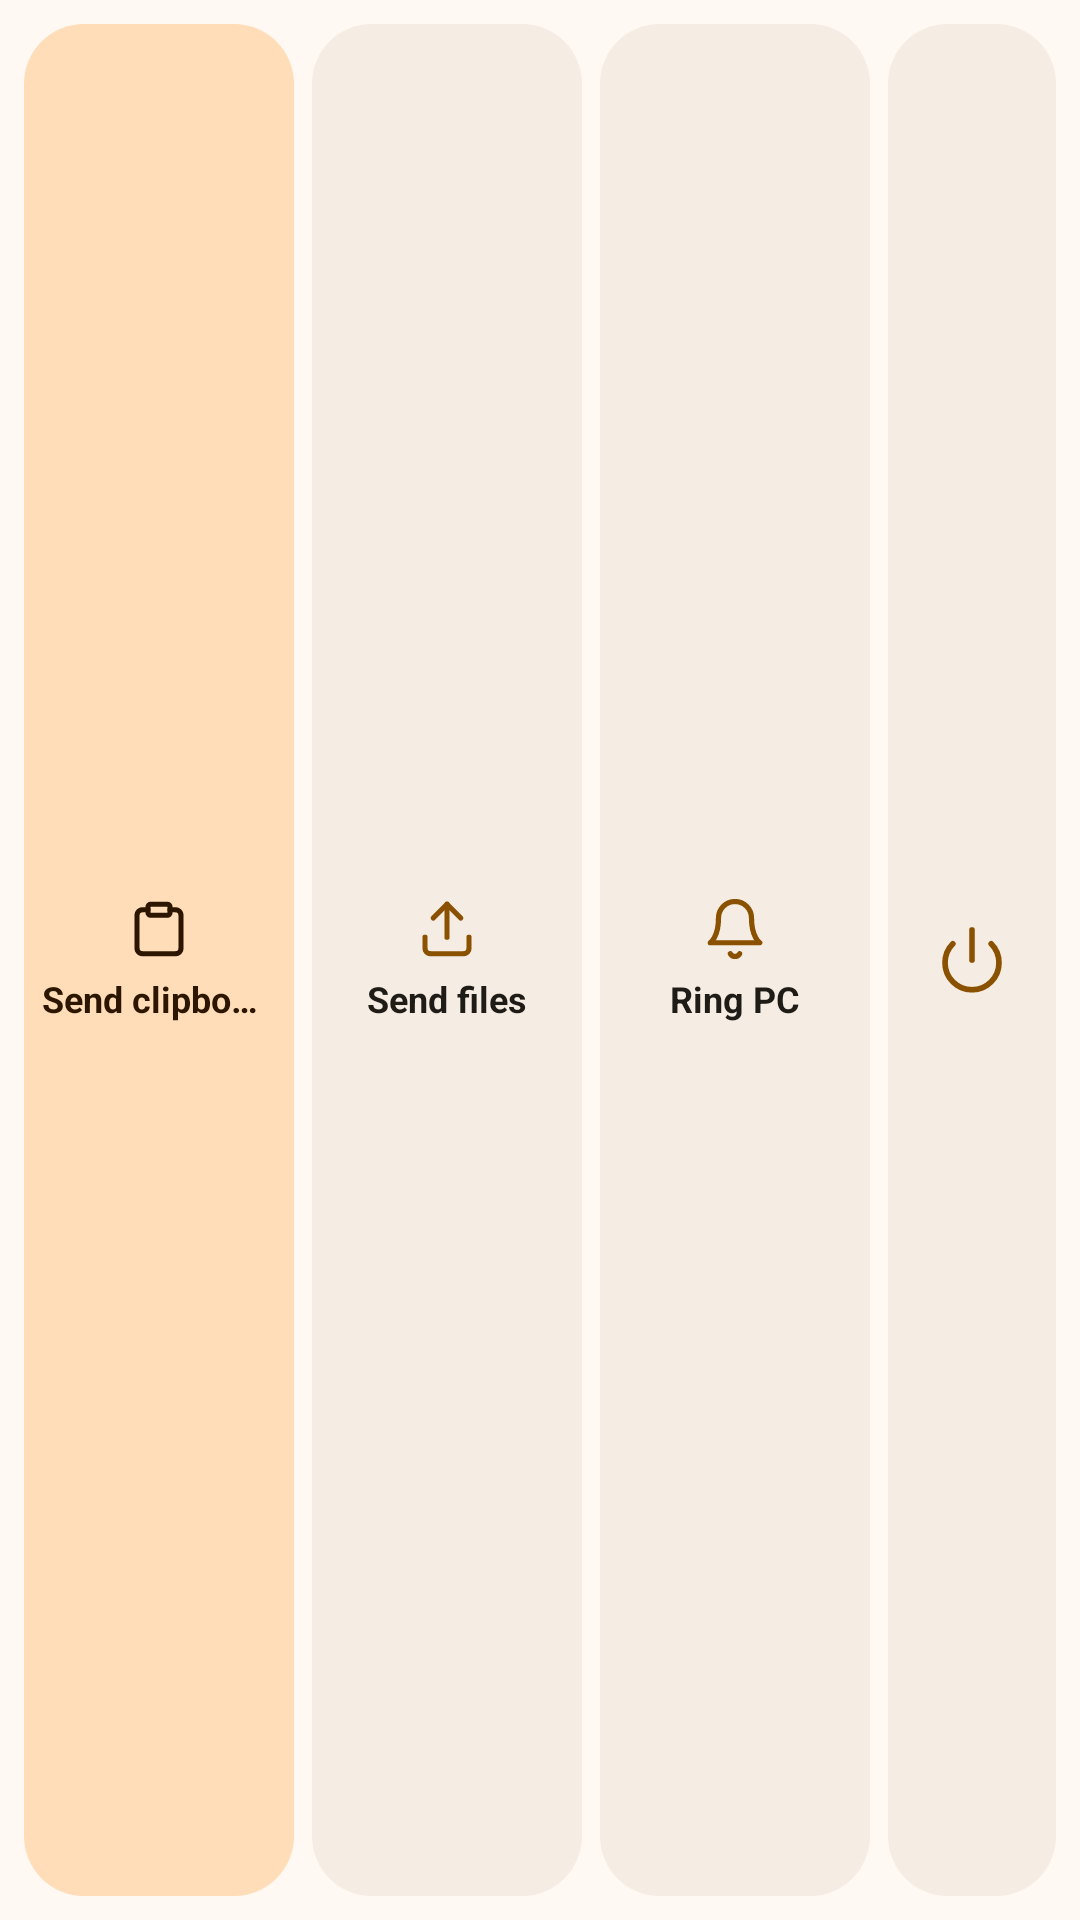

Screen size 1080 × 1920. Icon name, then its center in pixels as (x,y):
widget bell: (735,929)
widget clip: (159,929)
